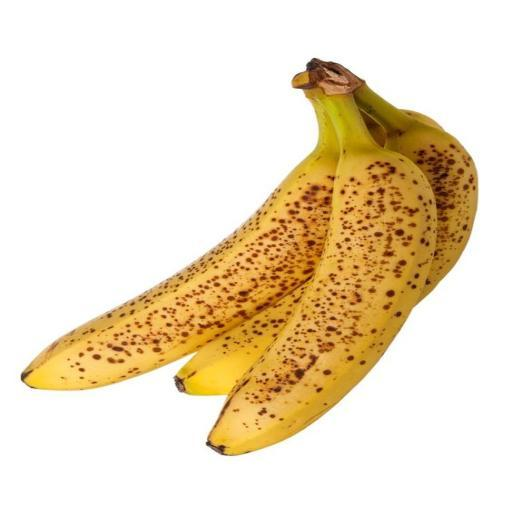banana: (22, 126, 339, 391), (211, 94, 437, 458)
